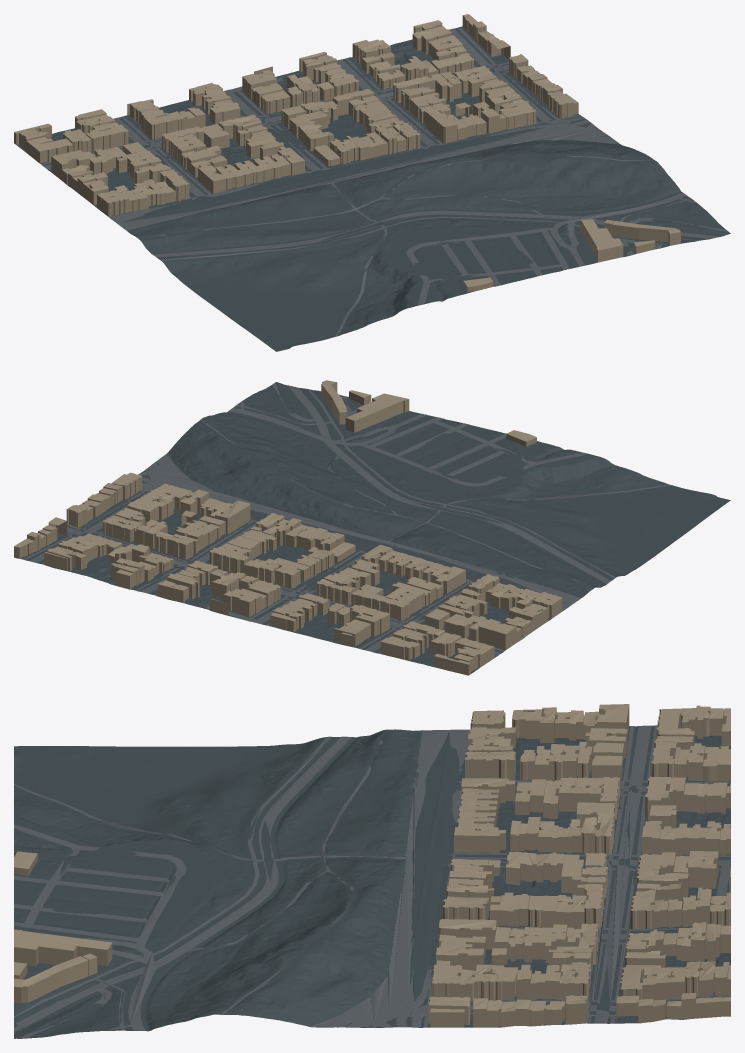
File: epsg26910-1425-10885.lod0.glb
3 views of the same model, one above another, from view 1: azimuth 30°, elevation 25°; view 2: azimuth 150°, elevation 25°; view 3: azimuth 270°, elevation 25° (orthographic). The views are drawn at different scales.
Visible parts, largest first — view 1: epsg26910-1425-10885-lod0; view 2: epsg26910-1425-10885-lod0; view 3: epsg26910-1425-10885-lod0.
Boxes of the visible parts, x1,y1,x2,y2 form: epsg26910-1425-10885-lod0: [14, 14, 730, 351]; epsg26910-1425-10885-lod0: [14, 380, 730, 675]; epsg26910-1425-10885-lod0: [14, 704, 730, 1038].
Bounding box in the file's own units: 384 × 30.47 × 384.
